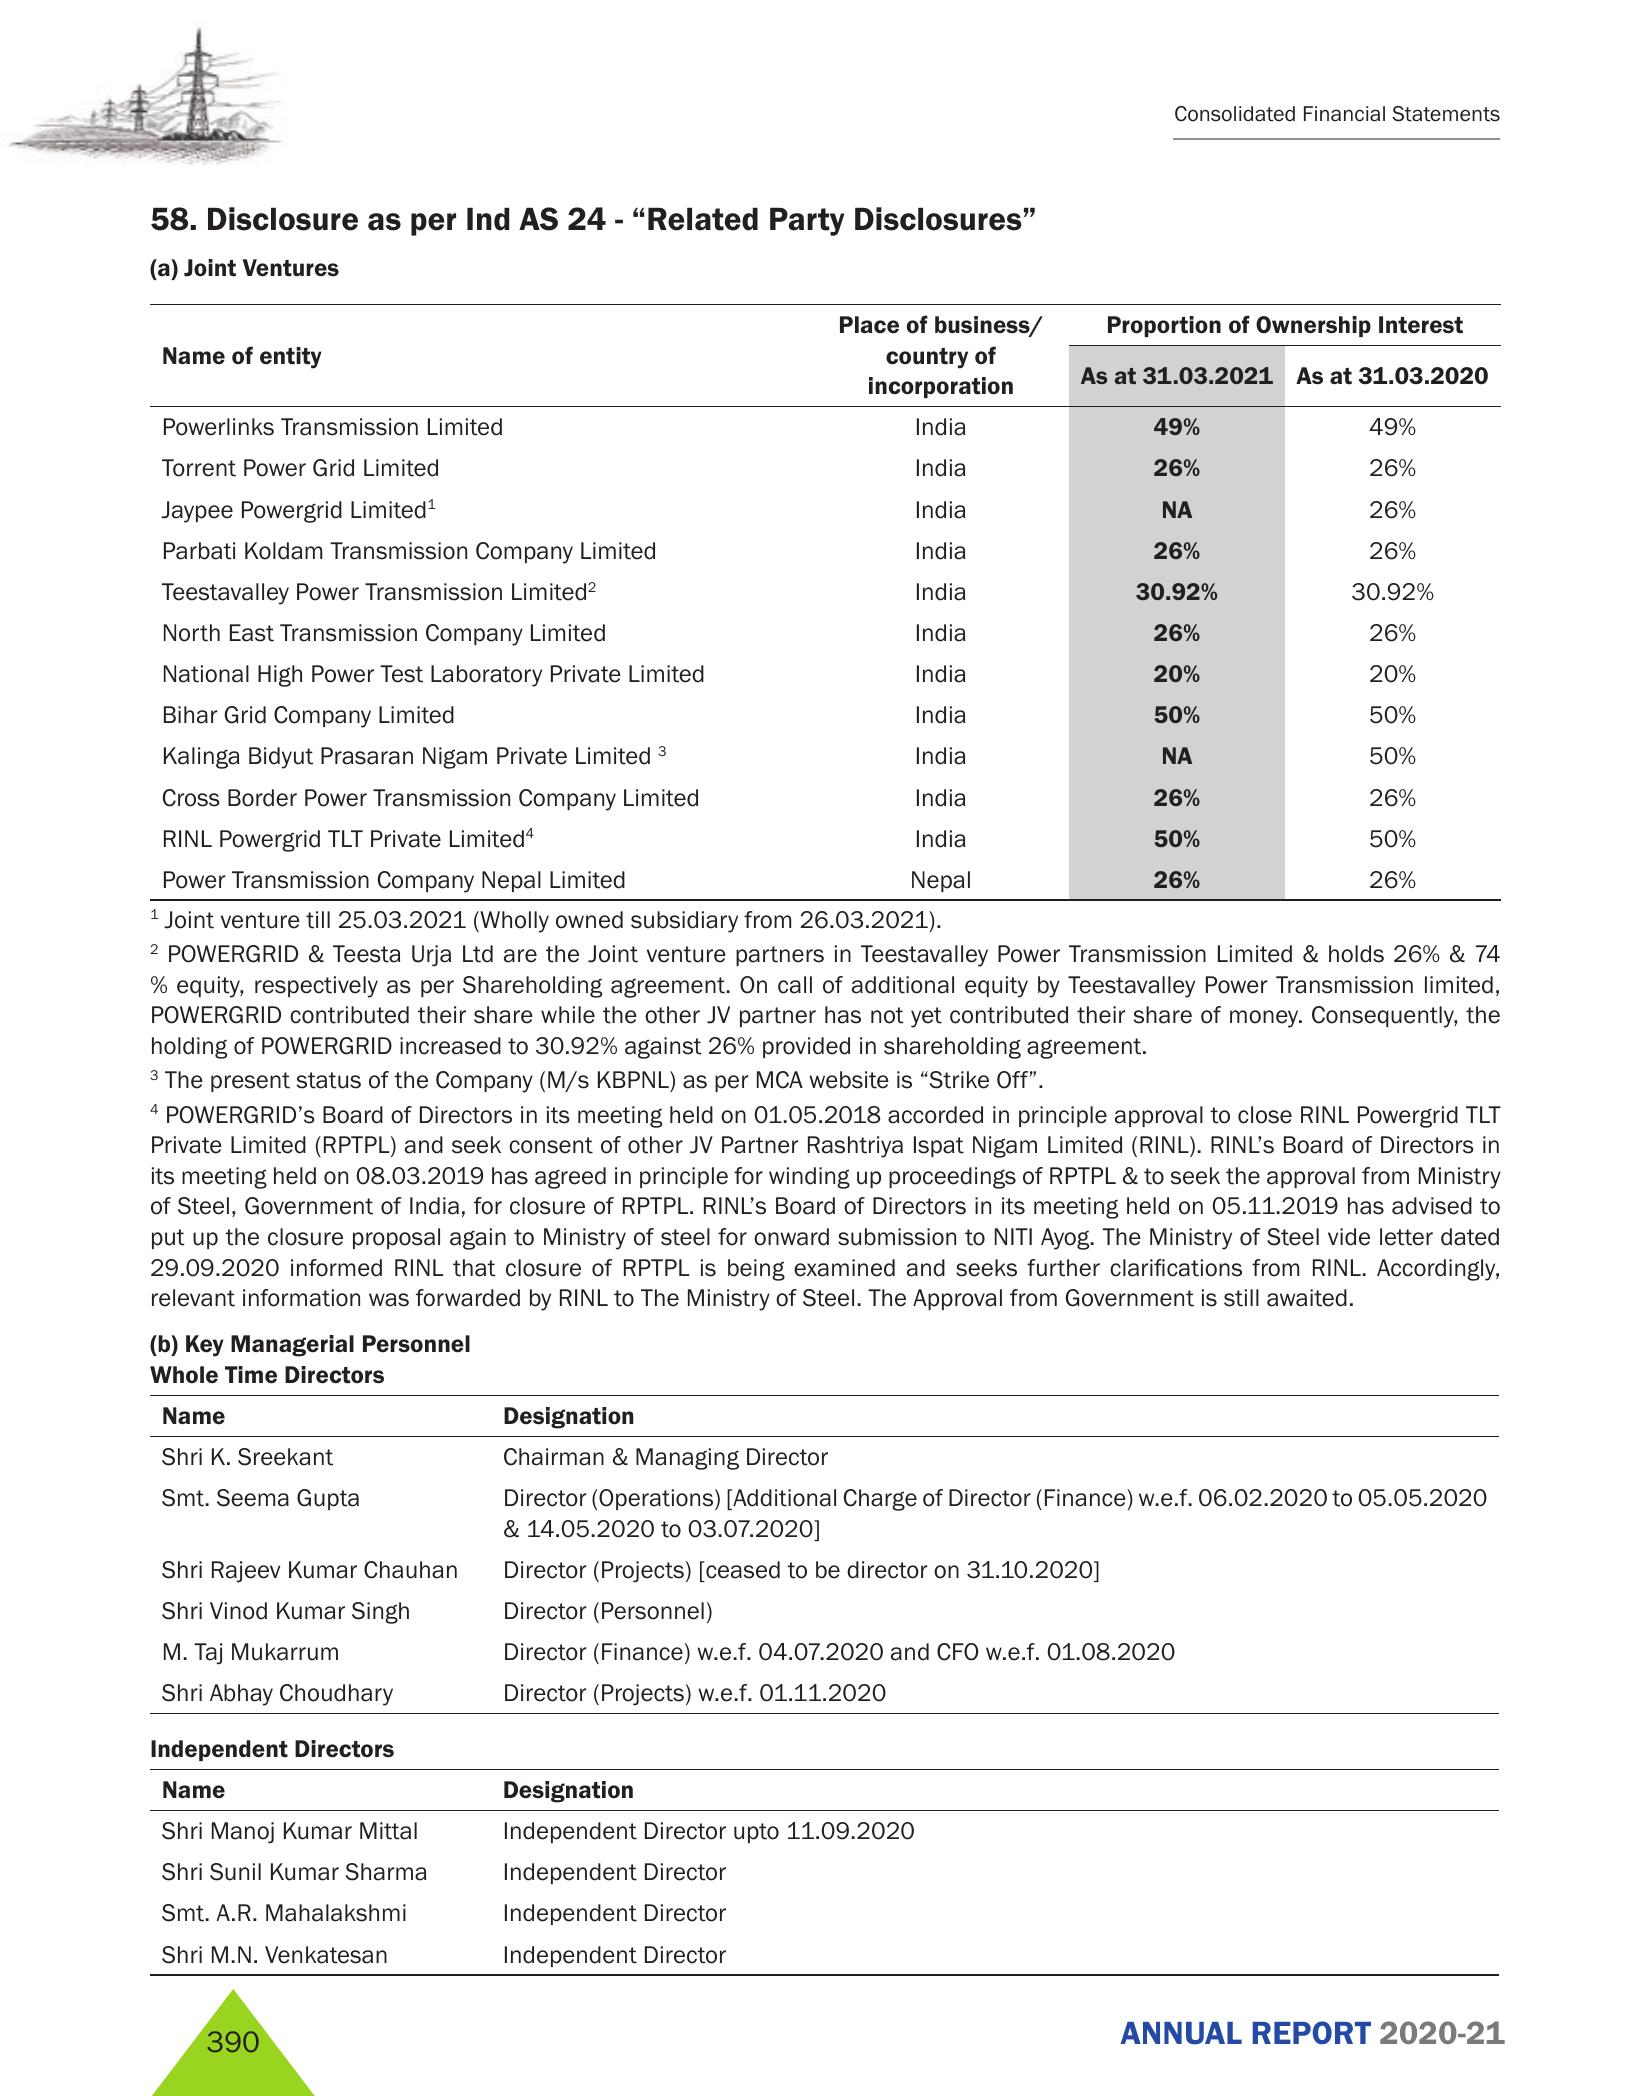Footer: (0, 1979, 1650, 2096)
Header: (0, 0, 1650, 175)
Table: (139, 298, 1507, 907), (134, 1393, 1521, 1712), (134, 1769, 1504, 1985)
